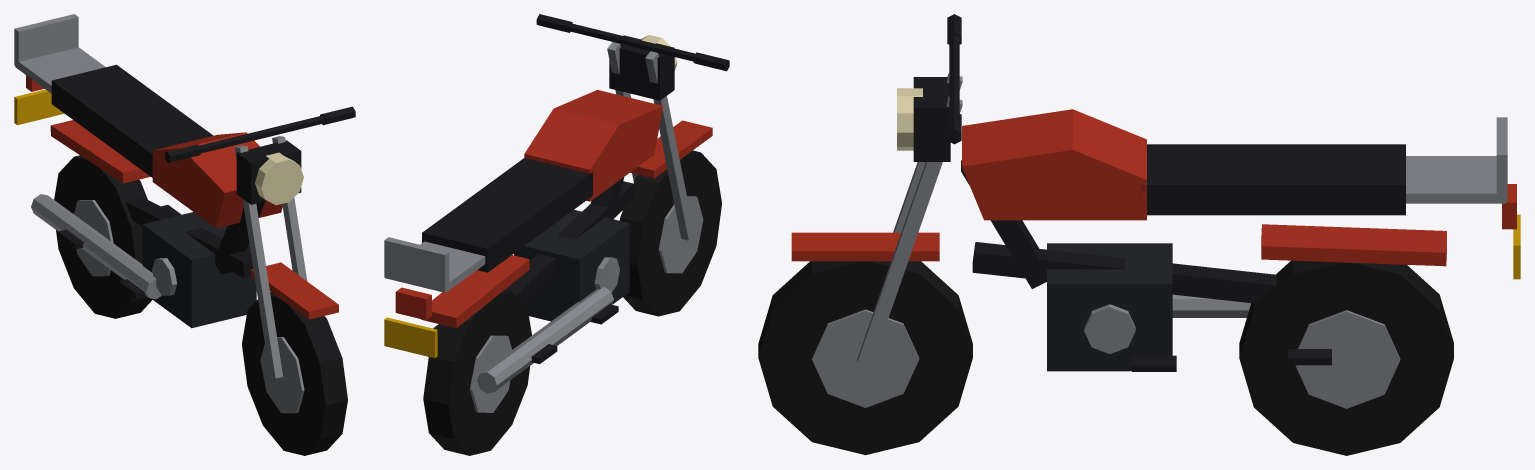
File: veh_okada.glb
The picture shows the model from 3 angles, left to right: view 1: azimuth 30°, elevation 25°; view 2: azimuth 150°, elevation 25°; view 3: azimuth 270°, elevation 25°; orthographic projection. The views are drawn at different scales.
Parts seen in each view (by area): view 1: body; view 2: body; view 3: body.
Part boxes in pixels (x1,y1,x2,y2): body: [14, 14, 355, 455]; body: [384, 14, 729, 455]; body: [758, 14, 1520, 455].
Bounding box in the file's own units: 0.74 × 1.12 × 2.06.
